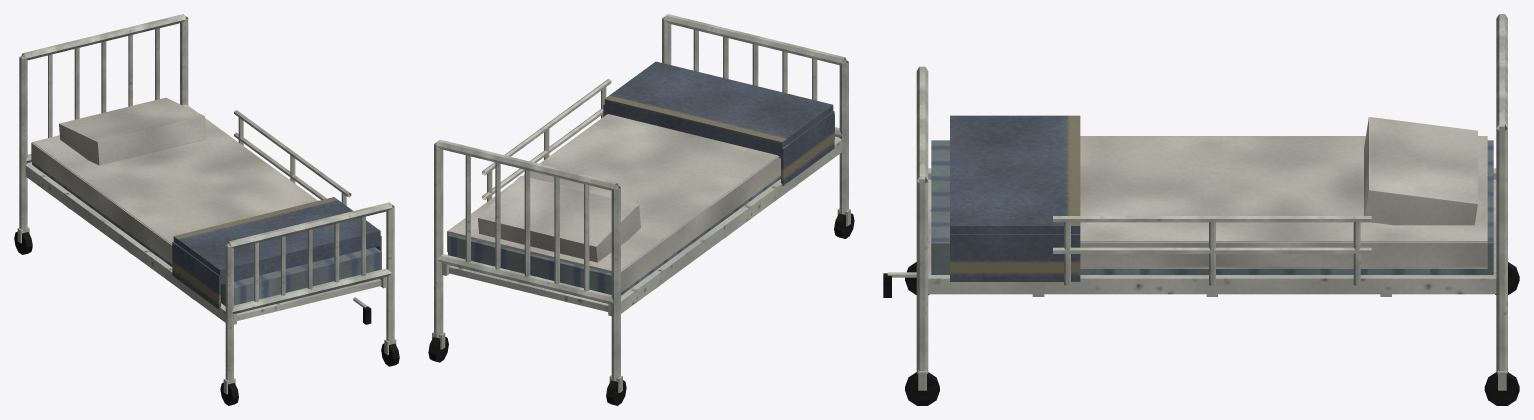
File: Bed_Hospital.fbx
3 views of the same model, side by side, from view 1: azimuth 30°, elevation 25°; view 2: azimuth 150°, elevation 25°; view 3: azimuth 270°, elevation 25° (orthographic). The views are drawn at different scales.
Parts seen in each view (by area): view 1: КРОВАТЬ ДЛЯ ПАЛАТ; view 2: КРОВАТЬ ДЛЯ ПАЛАТ; view 3: КРОВАТЬ ДЛЯ ПАЛАТ.
Part boxes in pixels (x1,y1,x2,y2): КРОВАТЬ ДЛЯ ПАЛАТ: (14, 14, 399, 405); КРОВАТЬ ДЛЯ ПАЛАТ: (428, 14, 854, 405); КРОВАТЬ ДЛЯ ПАЛАТ: (883, 14, 1519, 405).
Bounding box in the file's own units: 0.9654 × 1.06 × 2.19.
Materials: 1 (1 with a texture image).
